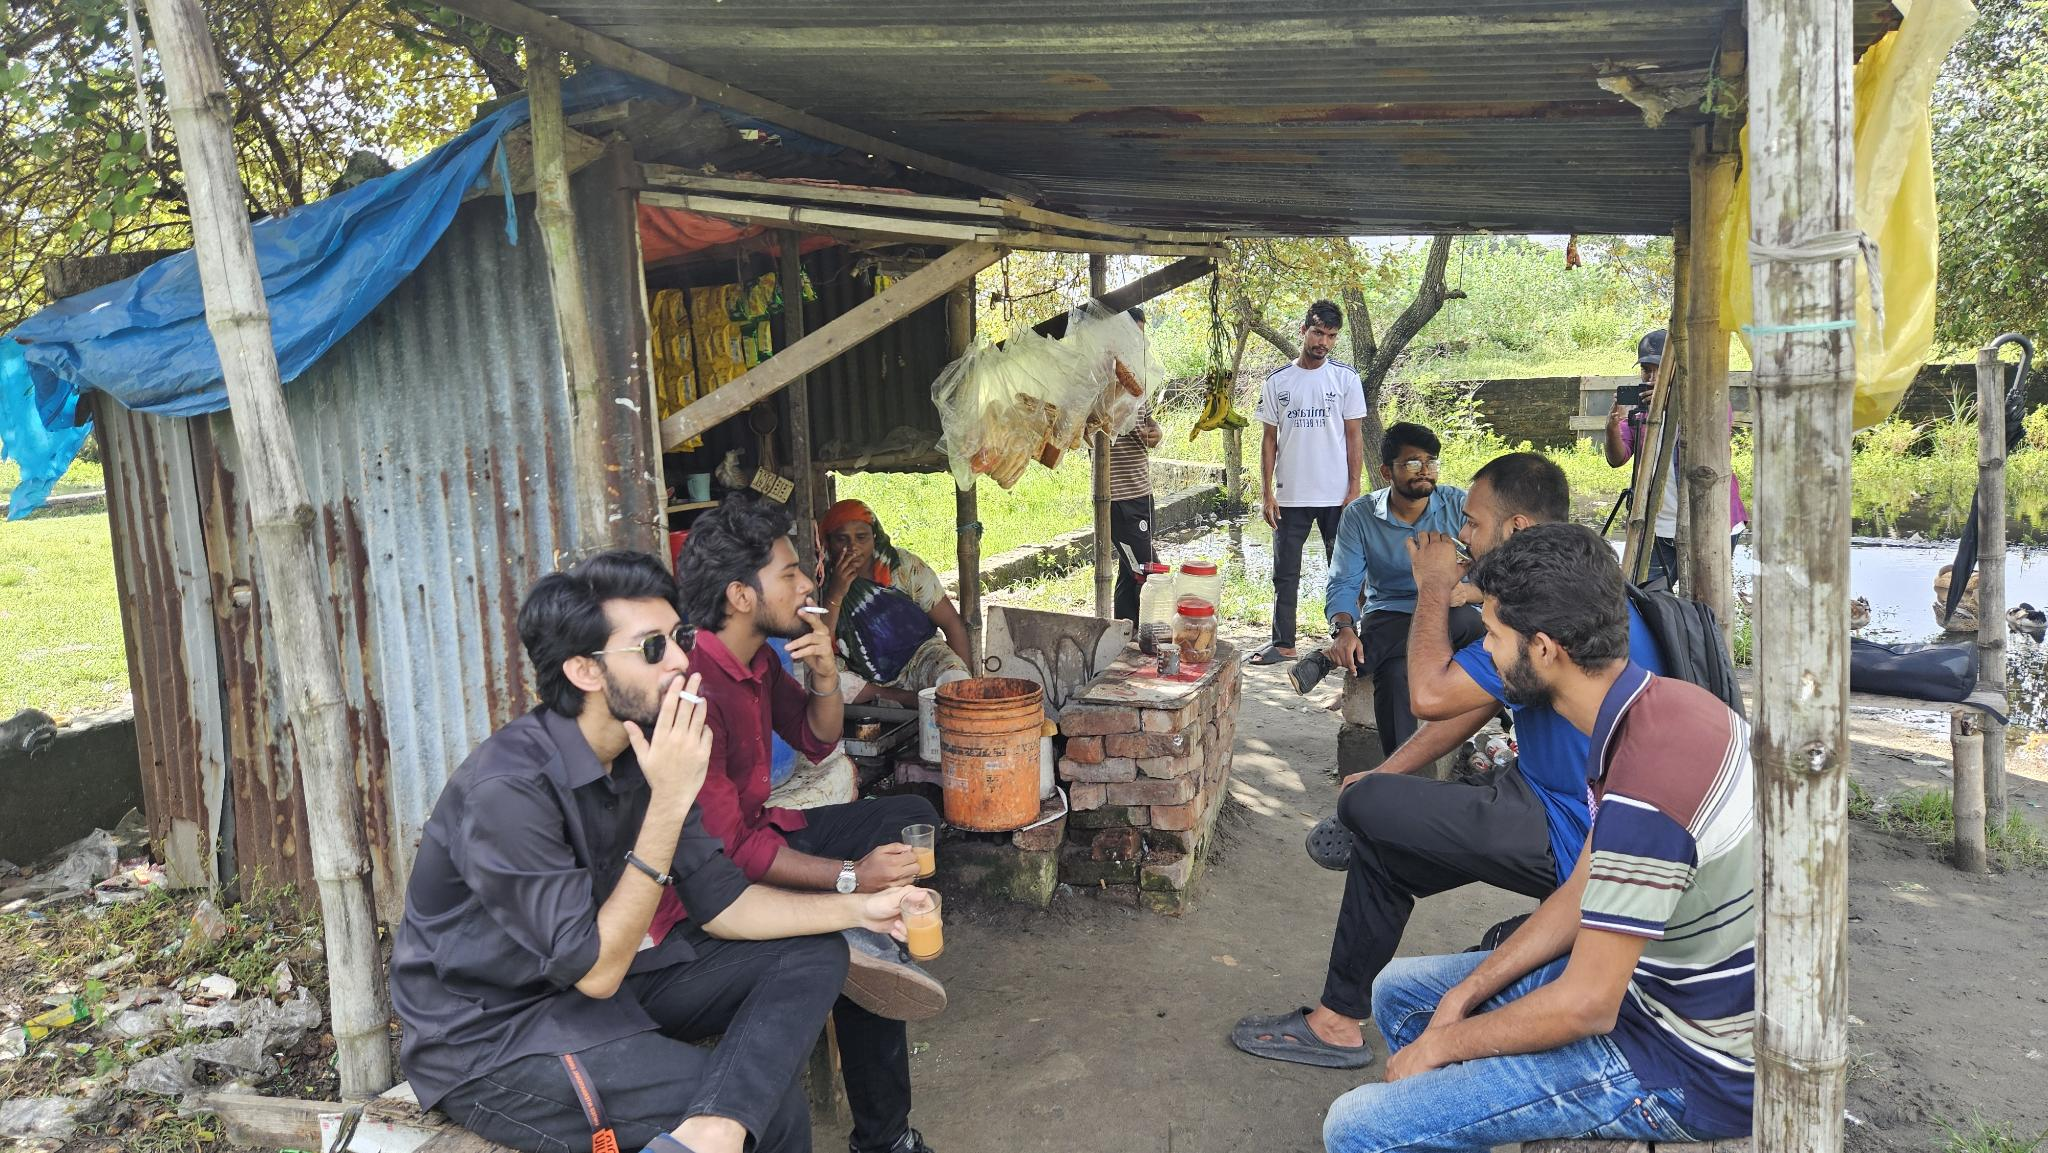cigarette: (677, 689, 706, 707), (799, 602, 833, 616)
nonSmoker: (1231, 451, 1746, 1069), (1322, 522, 1757, 1153), (1287, 422, 1468, 751), (1248, 299, 1363, 665), (820, 499, 972, 709)
smoker: (388, 548, 927, 1153), (681, 499, 941, 890)
